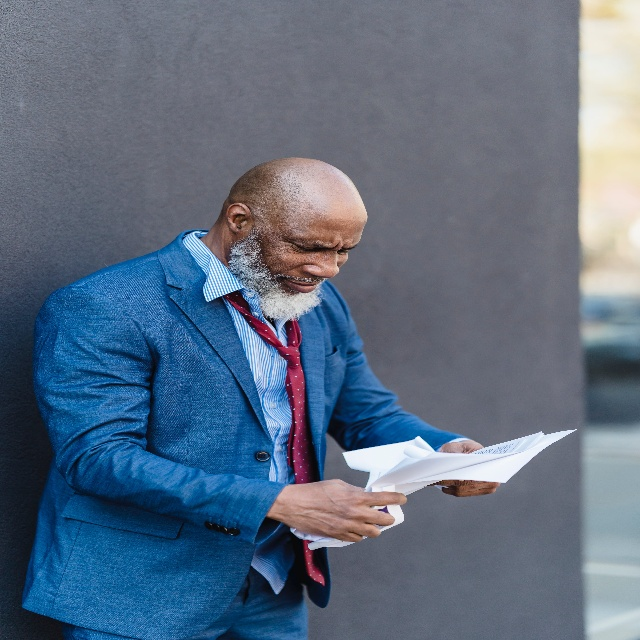Sin_guantes: (287, 478, 407, 544), (424, 439, 501, 499)
